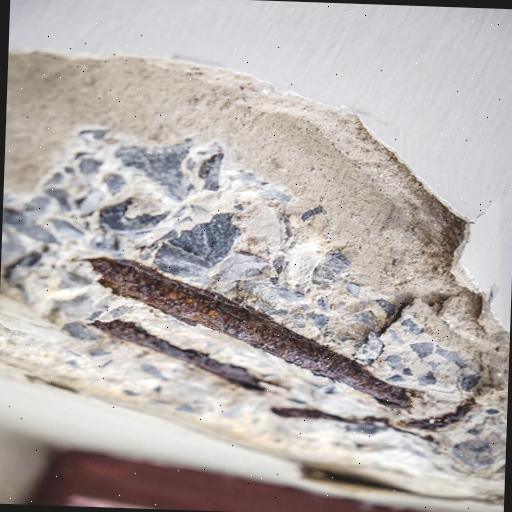spalling: (0, 56, 509, 508)
